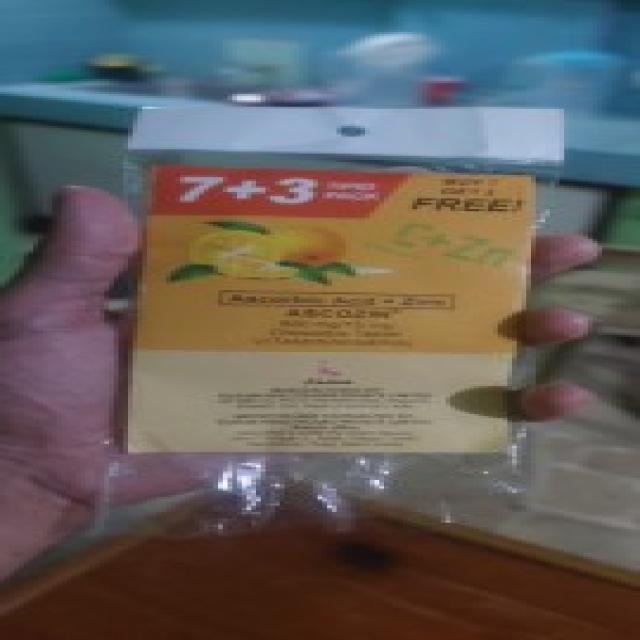Cacat: (93, 101, 576, 519)
